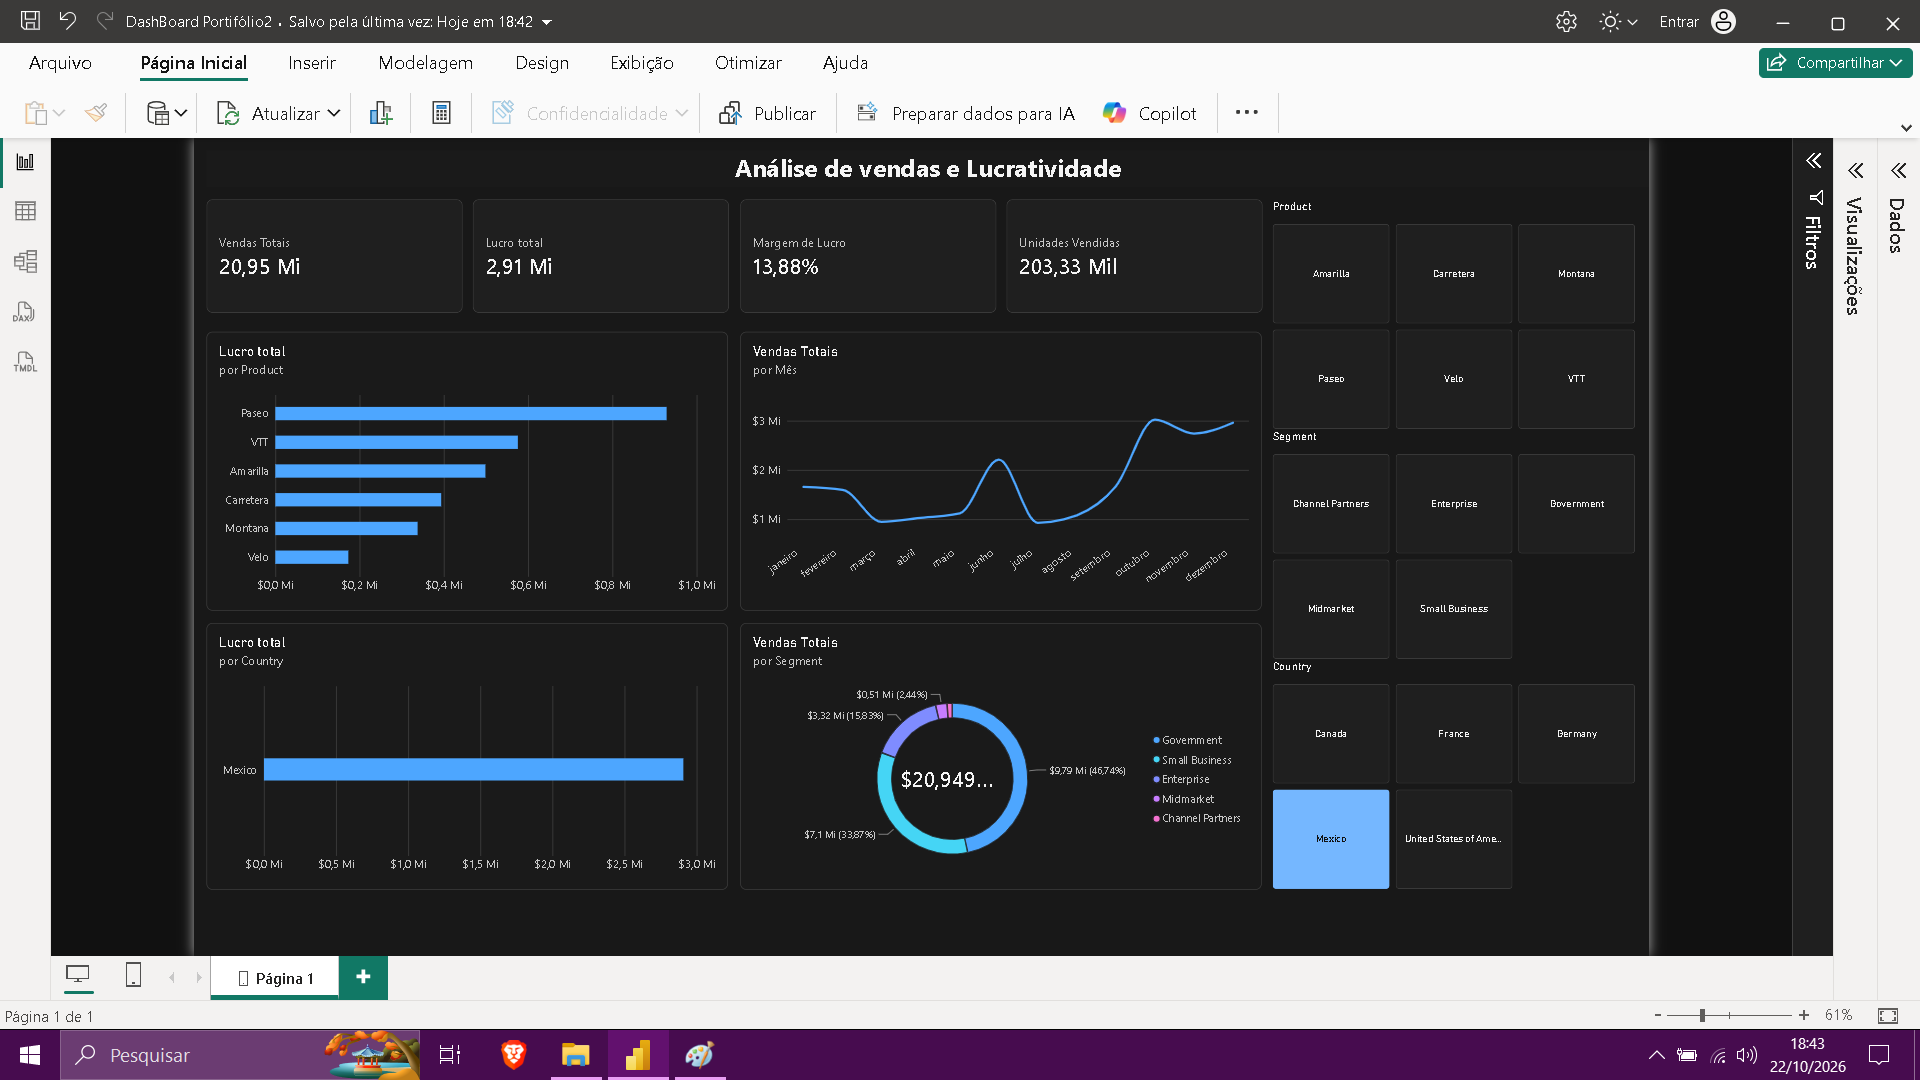

The dashboard page shown, as its layout file describes it:
{"tool":"powerbi","page":{"name":"Página 1","canvas":[1920,1080],"ordinal":0},"visuals":[{"type":"textbox","box":[16,16,1904,48],"z":0},{"type":"cardVisual","fields":{"Data":["financials.Vendas Totais"]},"box":[16,80,338.5,150.3],"z":1000},{"type":"cardVisual","fields":{"Data":["financials.Lucro total"]},"box":[368,80,338.5,150.3],"z":2000},{"type":"cardVisual","fields":{"Data":["financials.Margem de Lucro"]},"box":[720,80,338.5,150.3],"z":3000},{"type":"cardVisual","fields":{"Data":["financials.Unidades Vendidas"]},"box":[1072,80,338.5,150.3],"z":4000},{"type":"lineChart","fields":{"Category":["financials.Date.Variação.Hierarquia de datas.Ano","financials.Date.Variação.Hierarquia de datas.Trimestre","financials.Date.Variação.Hierarquia de datas.Mês","financials.Date.Variação.Hierarquia de datas.Dia"],"Y":["financials.Vendas Totais"]},"box":[720,256,688,368],"z":5000},{"type":"clusteredBarChart","fields":{"Category":["financials.Product"],"Y":["financials.Lucro total"]},"box":[16,256,688,368],"z":6000},{"type":"donutChart","fields":{"Category":["financials.Segment"],"Y":["financials.Vendas Totais"]},"box":[720,640,688,352],"z":7000},{"type":"clusteredBarChart","fields":{"Category":["financials.Country"],"Y":["financials.Lucro total"]},"box":[16,640,688,352],"z":8000},{"type":"advancedSlicerVisual","fields":{"Values":["financials.Country"]},"box":[1424,688,480,304],"z":9000},{"type":"advancedSlicerVisual","fields":{"Values":["financials.Segment"]},"box":[1424,384,480,304],"z":10000},{"type":"advancedSlicerVisual","fields":{"Values":["financials.Product"]},"box":[1424,80,480,304],"z":11000}]}

Visuals, with their boxes on the page's 1920x1080 design canvas (x1, y1, x2, y2). These are canvas units, not pixel positions in the 1920x1080 screenshot, which may show the page scaled, cropped or inside an application window:
textbox: [left=16, top=16, right=1920, bottom=64]
cardVisual - financials.Vendas Totais: [left=16, top=80, right=354, bottom=230]
cardVisual - financials.Lucro total: [left=368, top=80, right=706, bottom=230]
cardVisual - financials.Margem de Lucro: [left=720, top=80, right=1058, bottom=230]
cardVisual - financials.Unidades Vendidas: [left=1072, top=80, right=1410, bottom=230]
lineChart - financials.Date.Variação.Hierarquia de datas.Ano x financials.Date.Variação.Hierarquia de datas.Trimestre: [left=720, top=256, right=1408, bottom=624]
clusteredBarChart - financials.Product x financials.Lucro total: [left=16, top=256, right=704, bottom=624]
donutChart - financials.Segment x financials.Vendas Totais: [left=720, top=640, right=1408, bottom=992]
clusteredBarChart - financials.Country x financials.Lucro total: [left=16, top=640, right=704, bottom=992]
advancedSlicerVisual - financials.Country: [left=1424, top=688, right=1904, bottom=992]
advancedSlicerVisual - financials.Segment: [left=1424, top=384, right=1904, bottom=688]
advancedSlicerVisual - financials.Product: [left=1424, top=80, right=1904, bottom=384]
